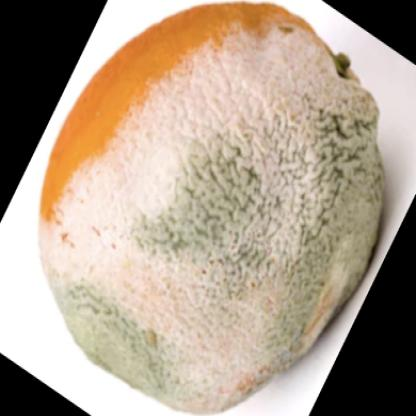rotten: (38, 4, 383, 416)
